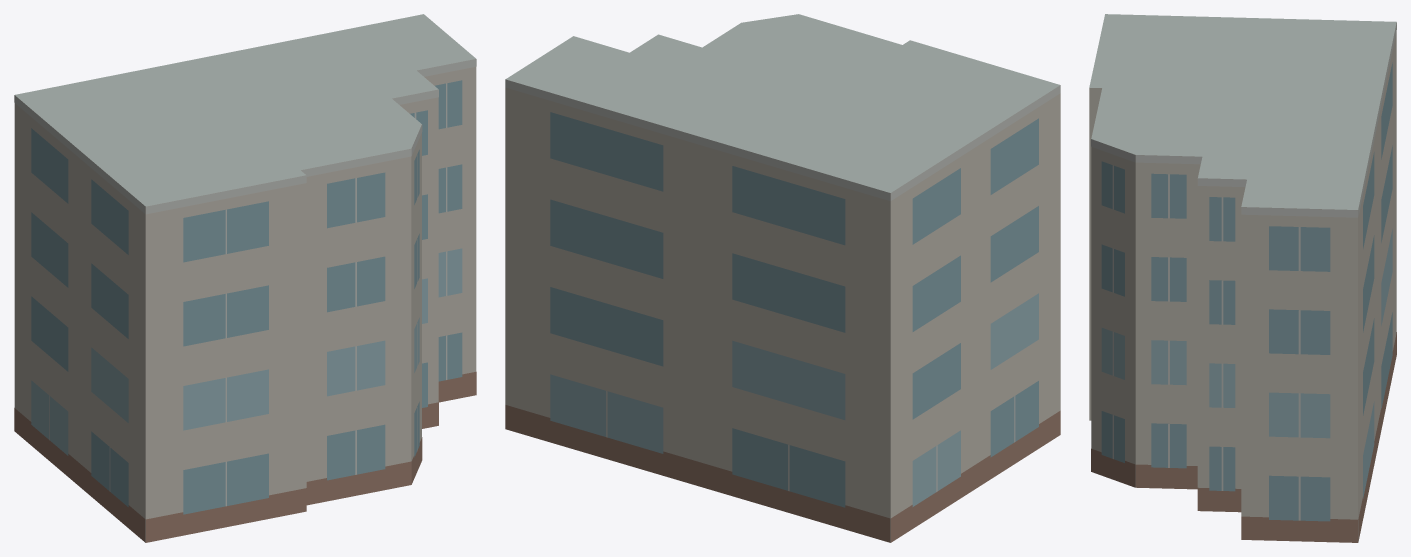
Rendered from survey-upis-32747048.glb.
3 views of the same model, side by side, from view 1: azimuth 30°, elevation 25°; view 2: azimuth 150°, elevation 25°; view 3: azimuth 270°, elevation 25° (orthographic). The views are drawn at different scales.
Visible parts, largest first — view 1: survey-upis-32747048.tmp; view 2: survey-upis-32747048.tmp; view 3: survey-upis-32747048.tmp.
Boxes of the visible parts, bbox=[...] form: survey-upis-32747048.tmp: bbox=[14, 14, 476, 542]; survey-upis-32747048.tmp: bbox=[505, 14, 1060, 542]; survey-upis-32747048.tmp: bbox=[1089, 14, 1396, 542].
Size of the model in its own units: 13.28 by 10.5 by 8.81.
